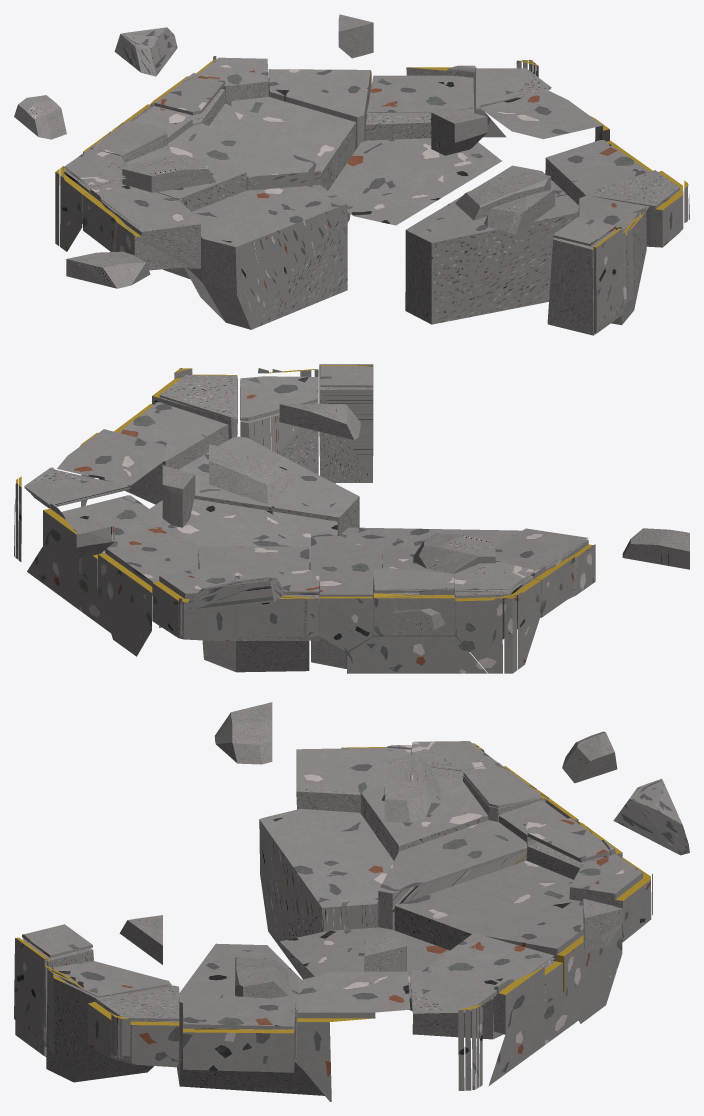
Rendered from terrazzoTile_crack_02.fbx.
The picture shows the model from 3 angles, top to bottom: view 1: azimuth 30°, elevation 25°; view 2: azimuth 150°, elevation 25°; view 3: azimuth 270°, elevation 25°; orthographic projection. The views are drawn at different scales.
Parts seen in each view (by area): view 1: terrazzoTile_crack_02; view 2: terrazzoTile_crack_02; view 3: terrazzoTile_crack_02.
Part boxes in pixels (left/top/right/bottom): terrazzoTile_crack_02: left=14, top=14, right=689, bottom=335; terrazzoTile_crack_02: left=14, top=364, right=689, bottom=673; terrazzoTile_crack_02: left=14, top=702, right=689, bottom=1101.
Bounding box in the file's own units: 233 × 70.5 × 219.
